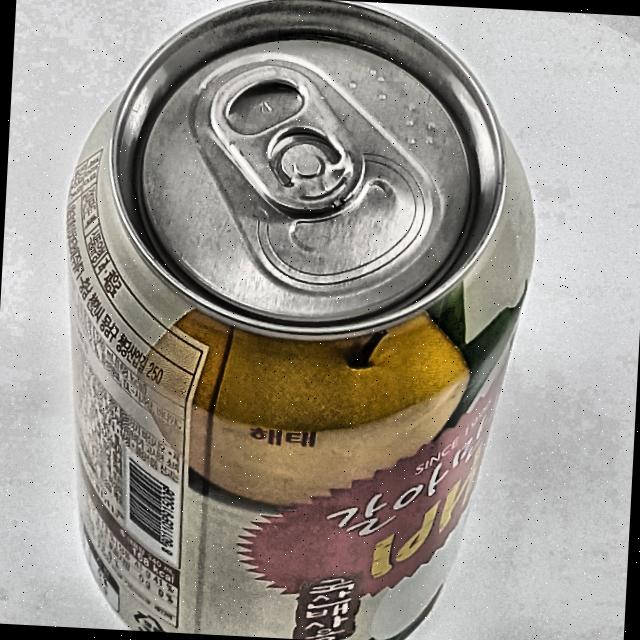galamandeunbae: (45, 0, 553, 640)
